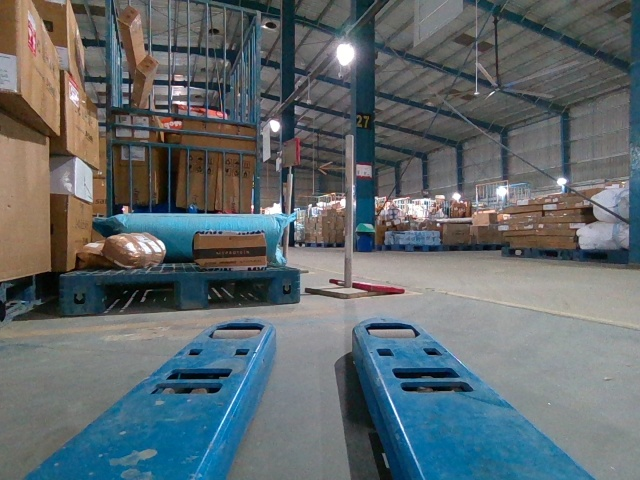block: (58, 273, 100, 316), (179, 270, 209, 310), (271, 267, 300, 302)
front: (60, 269, 299, 313)
hole pallet: (97, 277, 182, 310), (204, 270, 279, 302)
